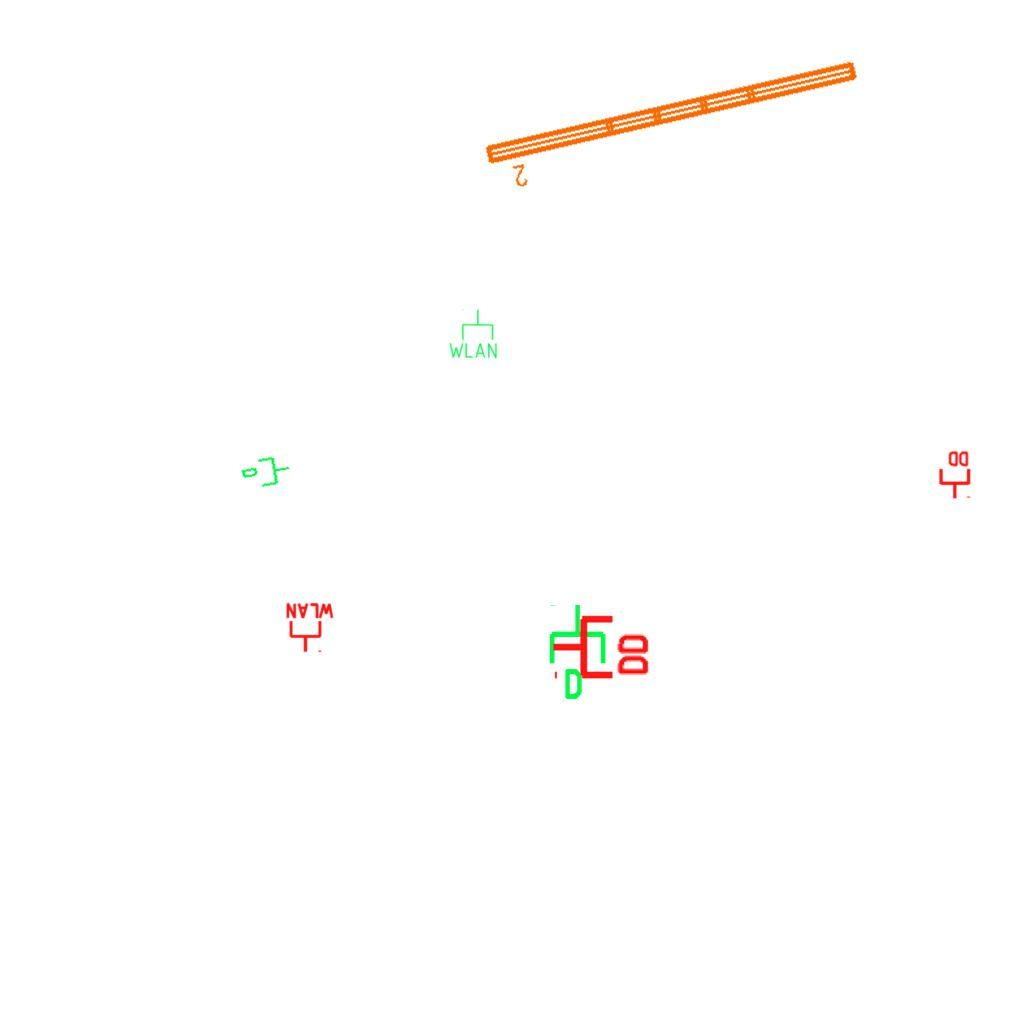Ambulanz_Pendelleuchte_LED: (479, 54, 870, 196)
Datenanschluss_einfach: (545, 602, 614, 702), (238, 451, 294, 495)
Datenanschluss_zweifach: (550, 611, 653, 680), (937, 449, 971, 500)
WLAN: (447, 308, 499, 360), (284, 602, 336, 654)
